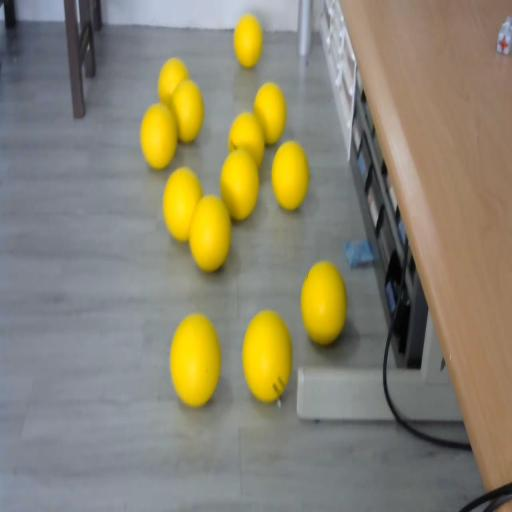FUEL: (168, 312, 222, 406), (241, 308, 294, 402), (299, 259, 348, 346), (188, 193, 233, 273), (220, 148, 260, 220), (271, 140, 309, 210), (140, 103, 178, 169), (170, 78, 206, 144), (254, 82, 287, 144), (234, 14, 262, 68)
